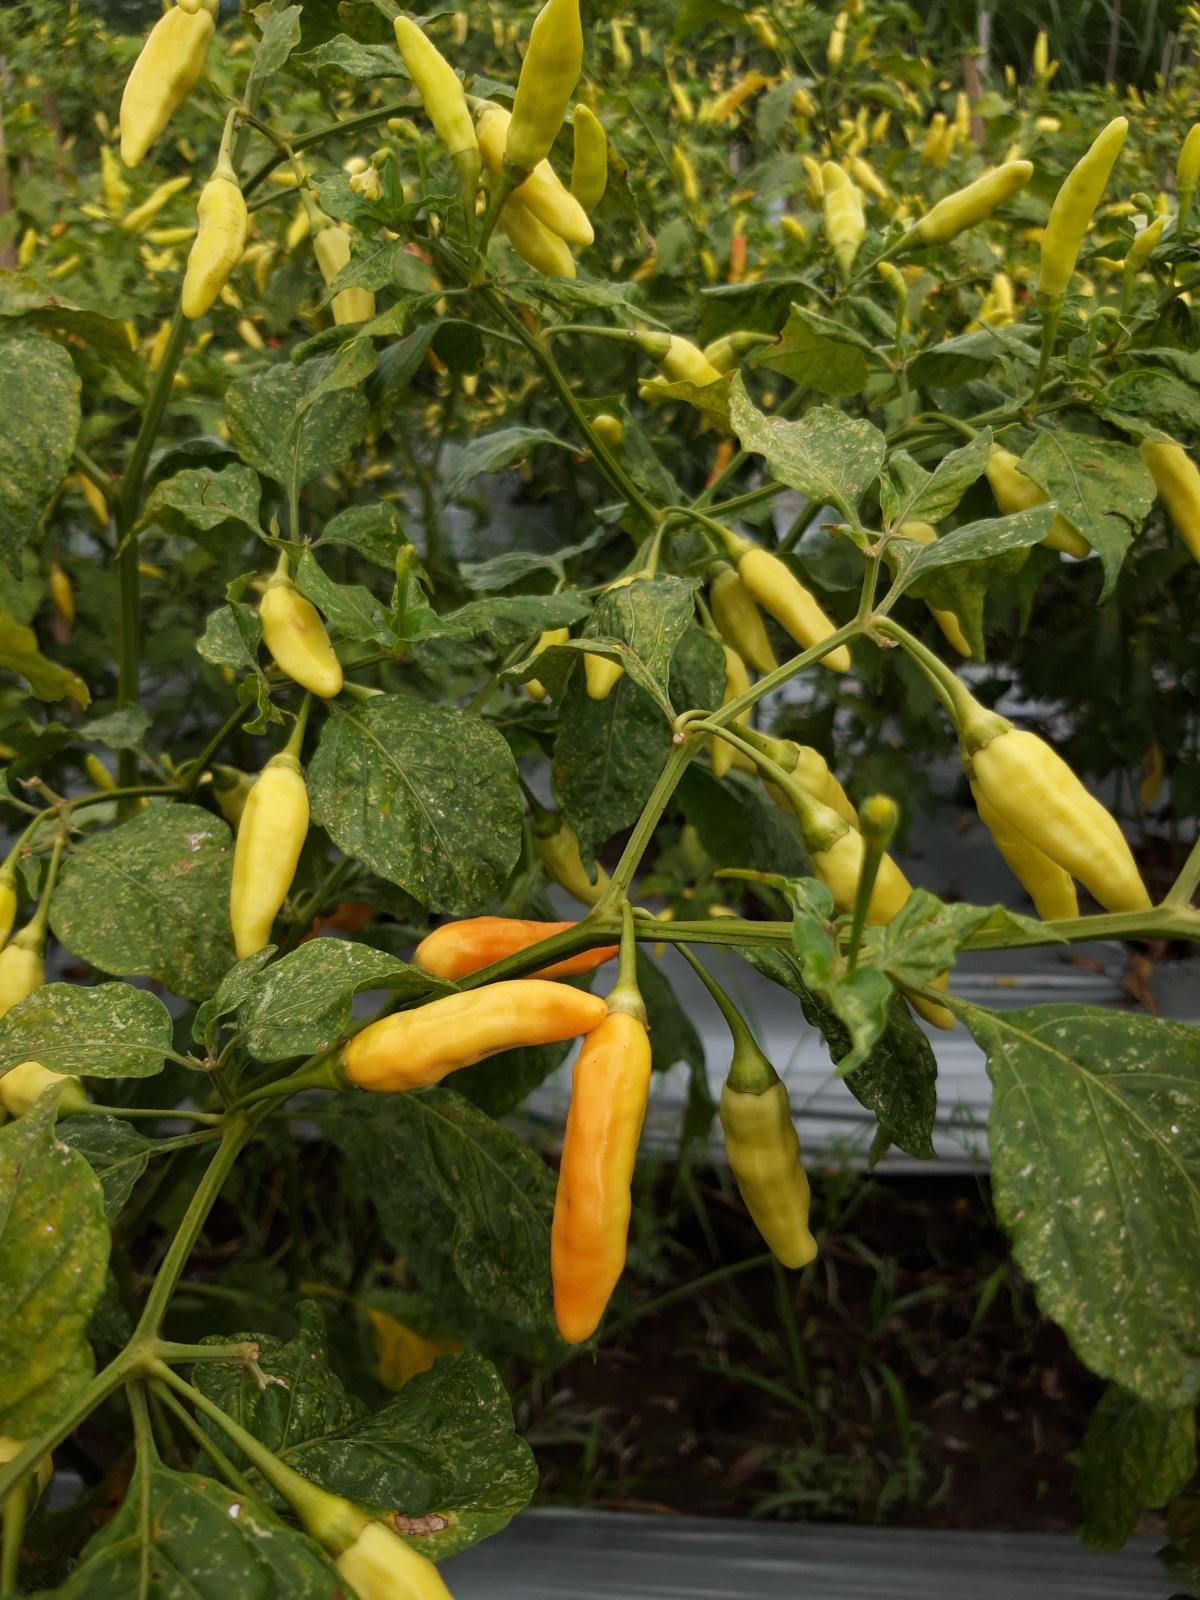cabai_normal: (976, 718, 1161, 913), (548, 1015, 650, 1343), (813, 814, 966, 1033), (339, 978, 608, 1090), (718, 1085, 819, 1272), (966, 776, 1082, 934), (470, 105, 595, 246), (1039, 115, 1128, 296), (117, 8, 216, 169), (229, 765, 310, 959), (736, 546, 851, 671), (0, 939, 82, 1106), (507, 0, 585, 165), (392, 14, 479, 150), (413, 916, 629, 970), (320, 1518, 459, 1600), (984, 452, 1092, 557), (176, 174, 245, 321), (900, 523, 974, 658), (915, 161, 1035, 244), (257, 586, 344, 699), (764, 747, 866, 834), (311, 229, 378, 349), (546, 821, 630, 913), (503, 190, 579, 289), (1145, 438, 1200, 569), (715, 574, 780, 675), (712, 643, 751, 777), (818, 159, 862, 260), (648, 336, 726, 392), (574, 103, 608, 214), (702, 333, 744, 380), (1175, 122, 1200, 179), (1129, 217, 1165, 251), (827, 13, 848, 63), (924, 115, 944, 154), (937, 125, 955, 165), (671, 84, 691, 121), (955, 92, 968, 141), (1035, 33, 1047, 76)
